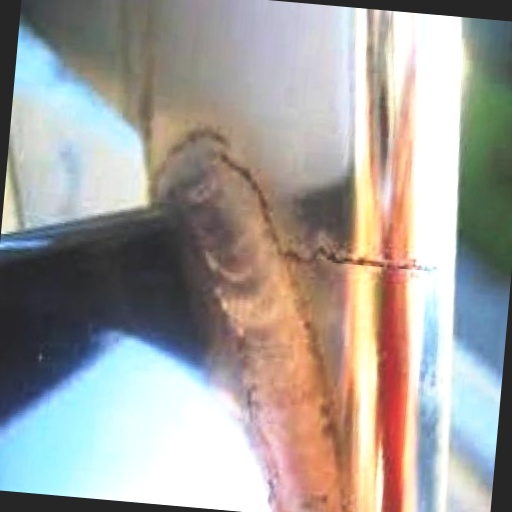crack: (278, 233, 452, 290)
